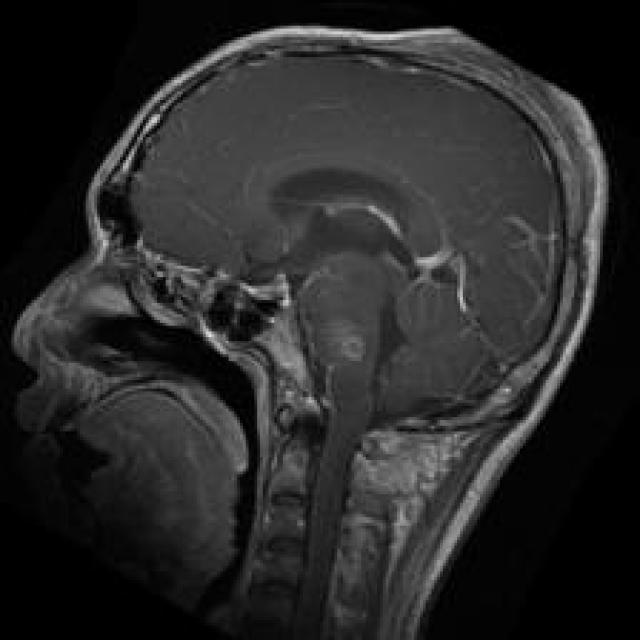glioma_tumor: (299, 299, 378, 380)
